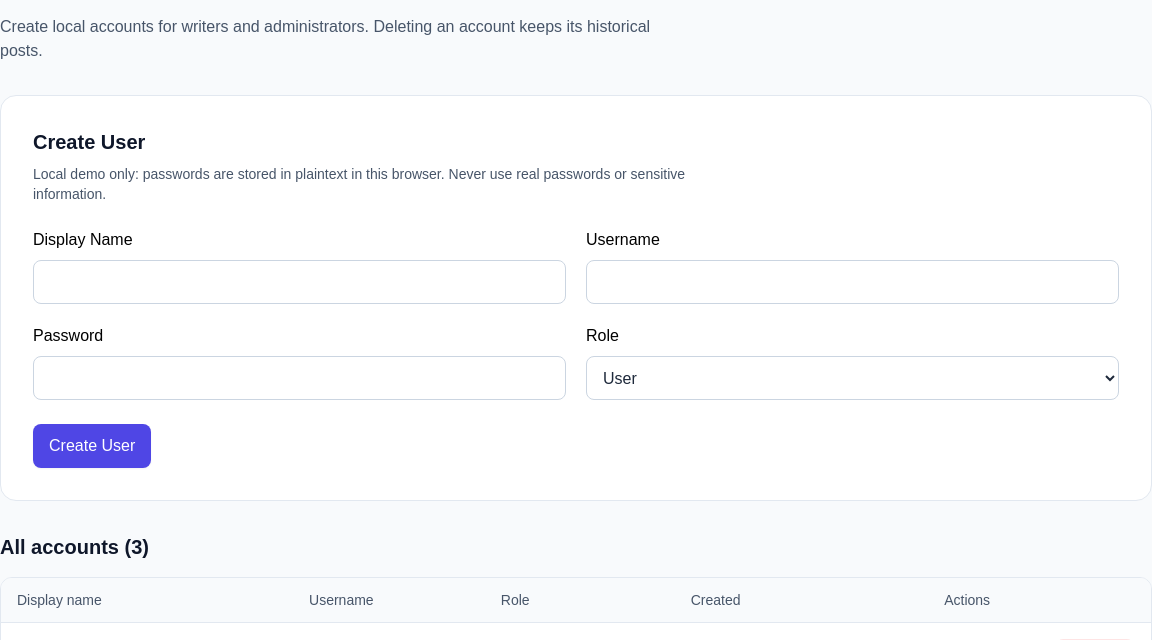
Scenario: creates and re-reads a persisted admin with success and cleared form
The image size is (1152, 640).
Type " New Writer " into the field labelled "Display Name" at (300, 282), box [33,260,566,304]
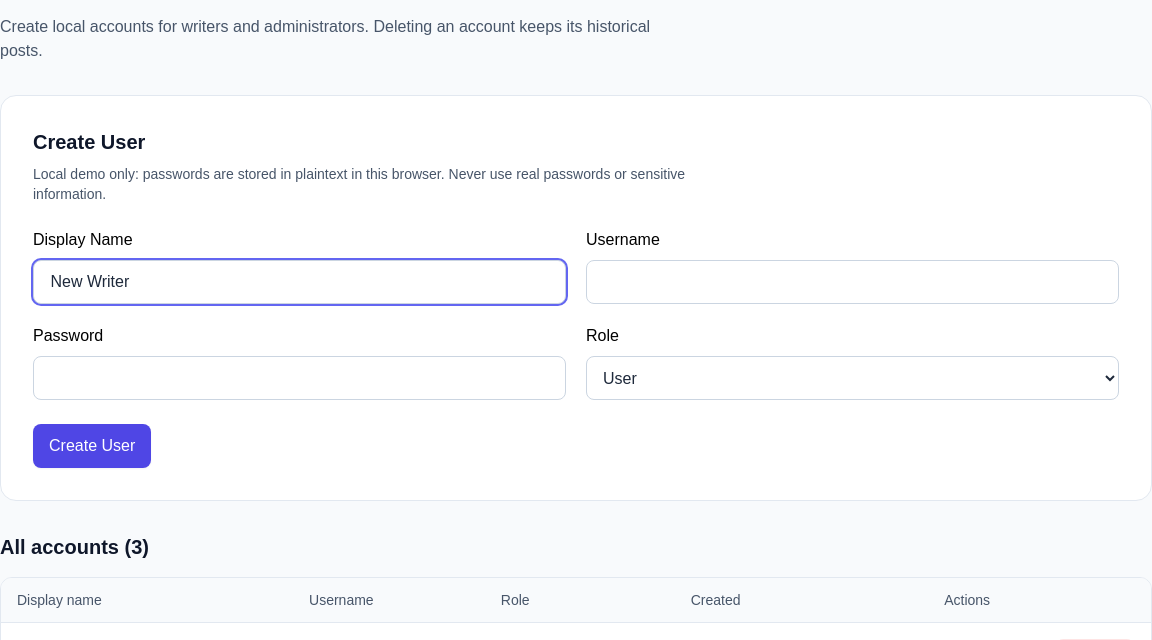
Type "new-writer" into the field labelled "Username" at (852, 282), box [586,260,1119,304]
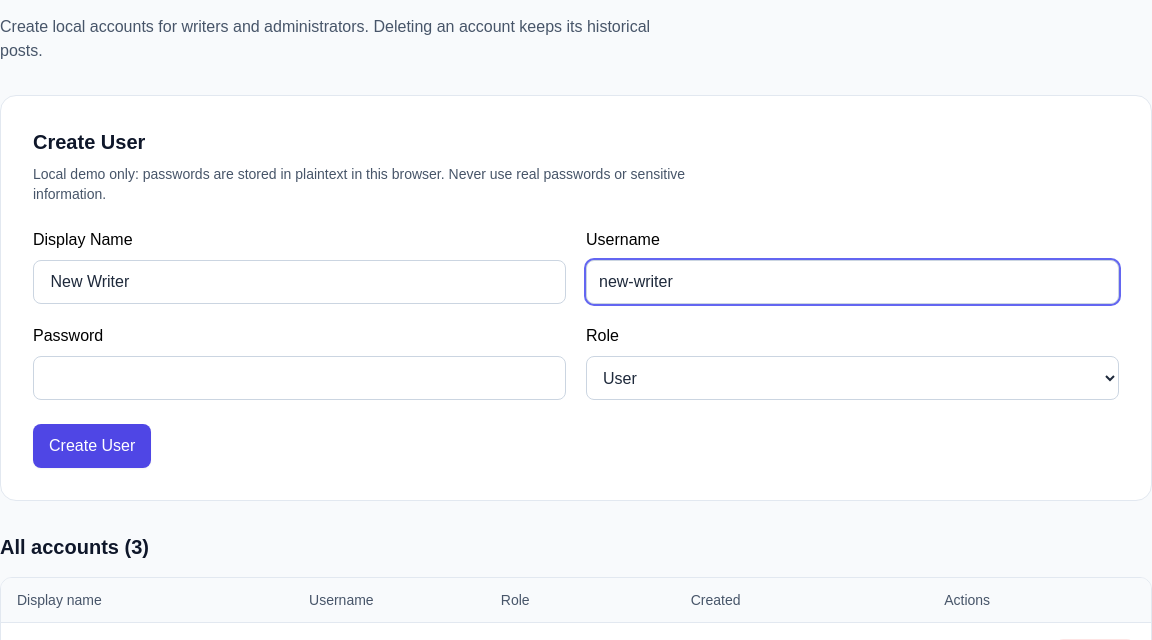
Type " demo " into the password field labelled "Password" at (300, 378), box [33,356,566,400]
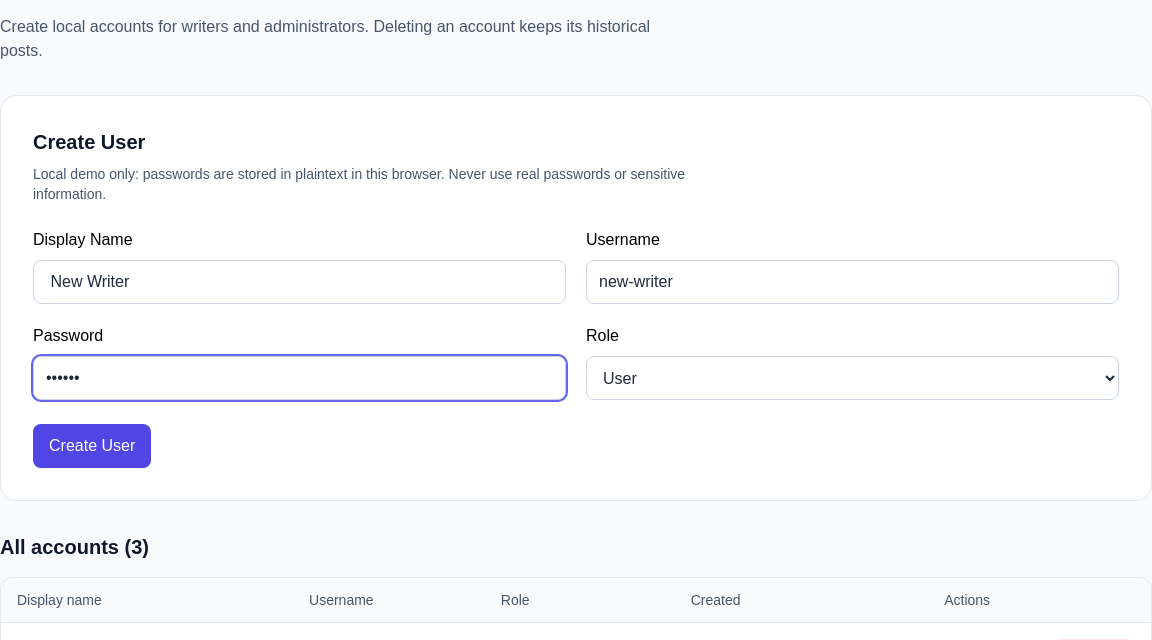
Select "Admin" in the dropdown labelled "Role" at (852, 378), box [586,356,1119,400]
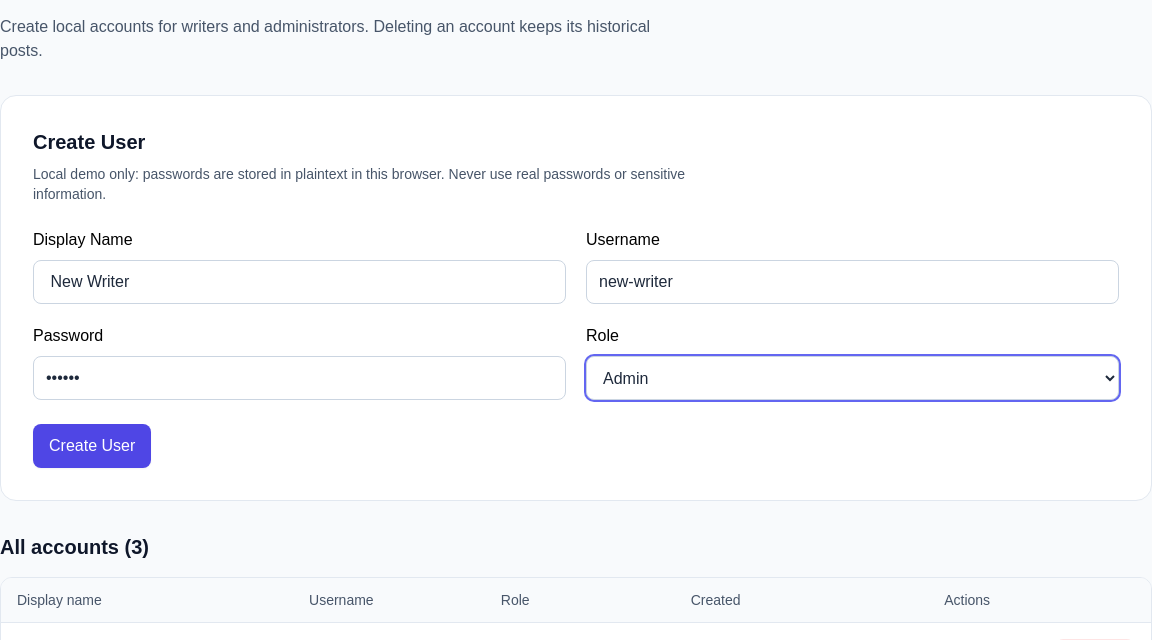
Click the button "Create User" at (92, 446), box [33,424,151,468]
(page scrolled)
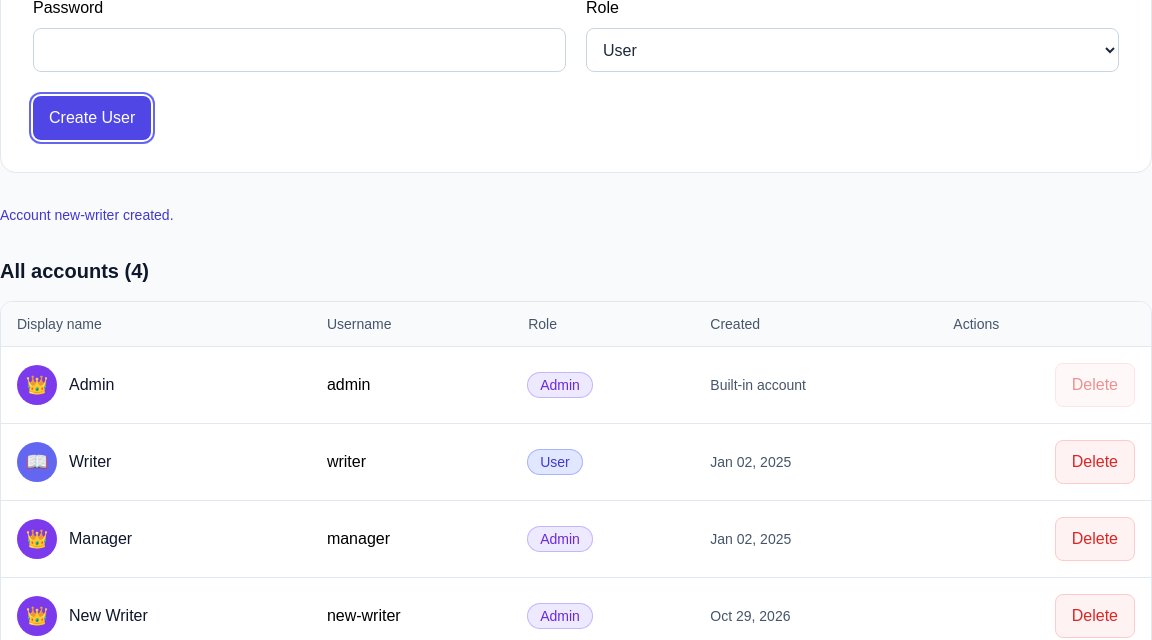
Check: the message reads "Account new-writer created.", box [0,207,174,223]
Check: the heading "All accounts (4)" is shown, box [0,260,149,282]
Check: the password field labelled "Password" is empty, box [33,28,566,72]
